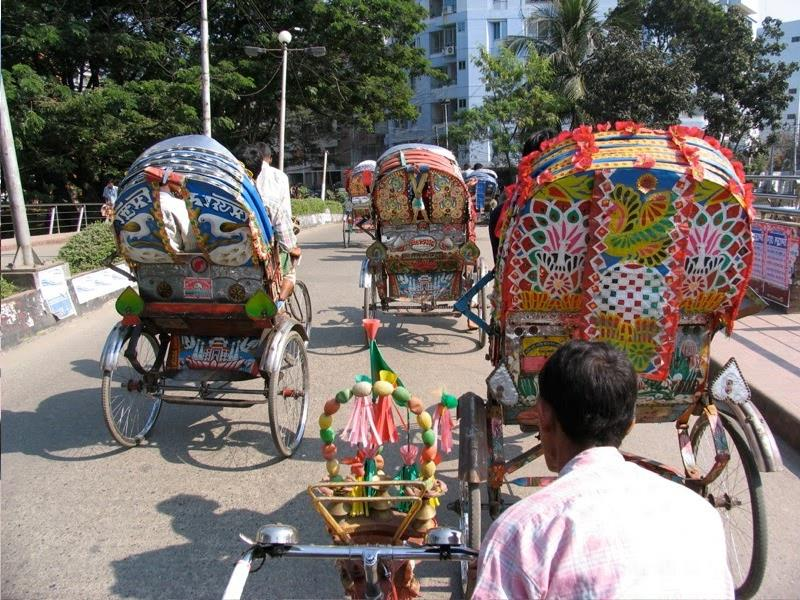Rickshaw: (482, 121, 780, 572), (98, 131, 313, 460), (372, 141, 491, 341), (340, 157, 379, 227), (466, 168, 498, 224)
